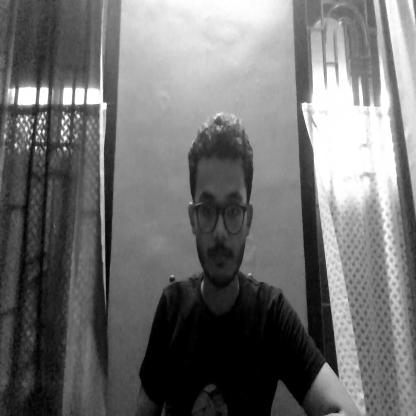Normal: (185, 105, 256, 293)
